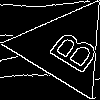B: (39, 23, 100, 76)
